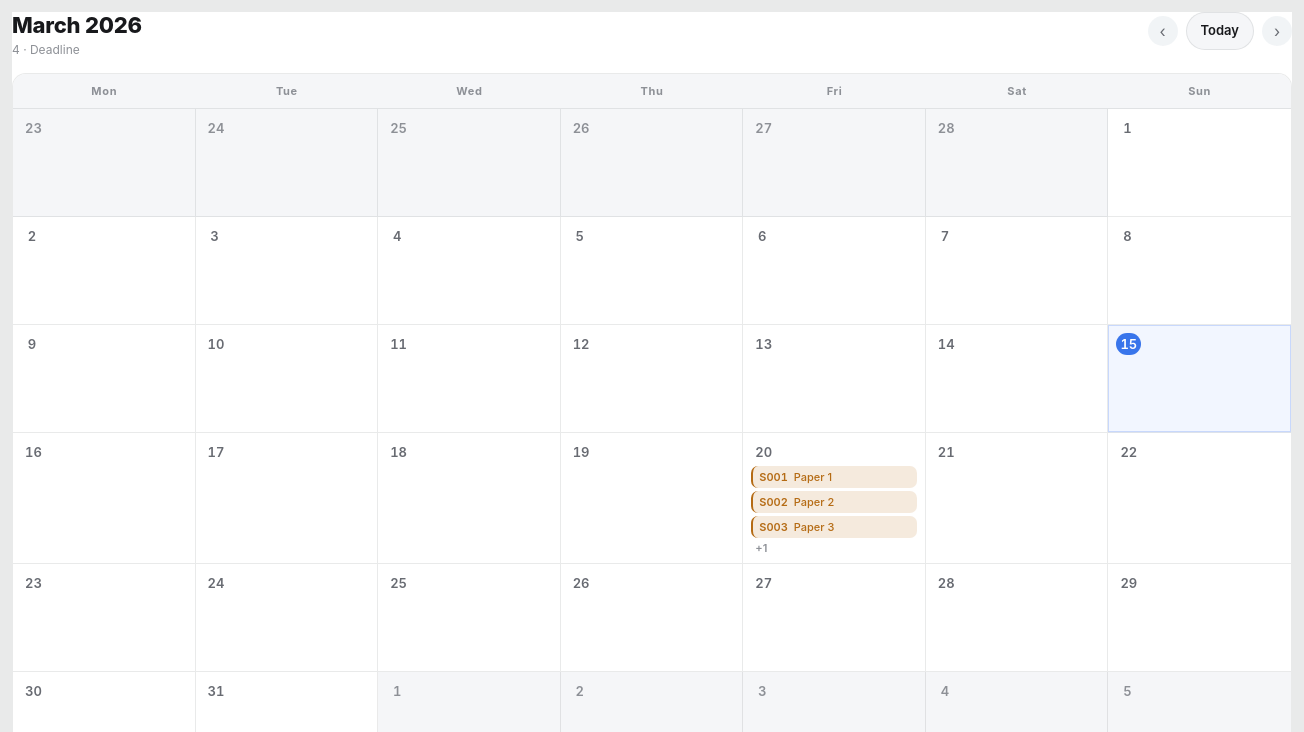
CalendarPage › caps a busy day at three chips and expands on demand
The image size is (1304, 732).
expect the number of buttons with class "wb-cal-event" is 3: met, box [751,466,917,488]; [751,491,917,513]; [751,516,917,538]
Step 1. Click the button "+1" → [761, 548], box [751,541,771,555]
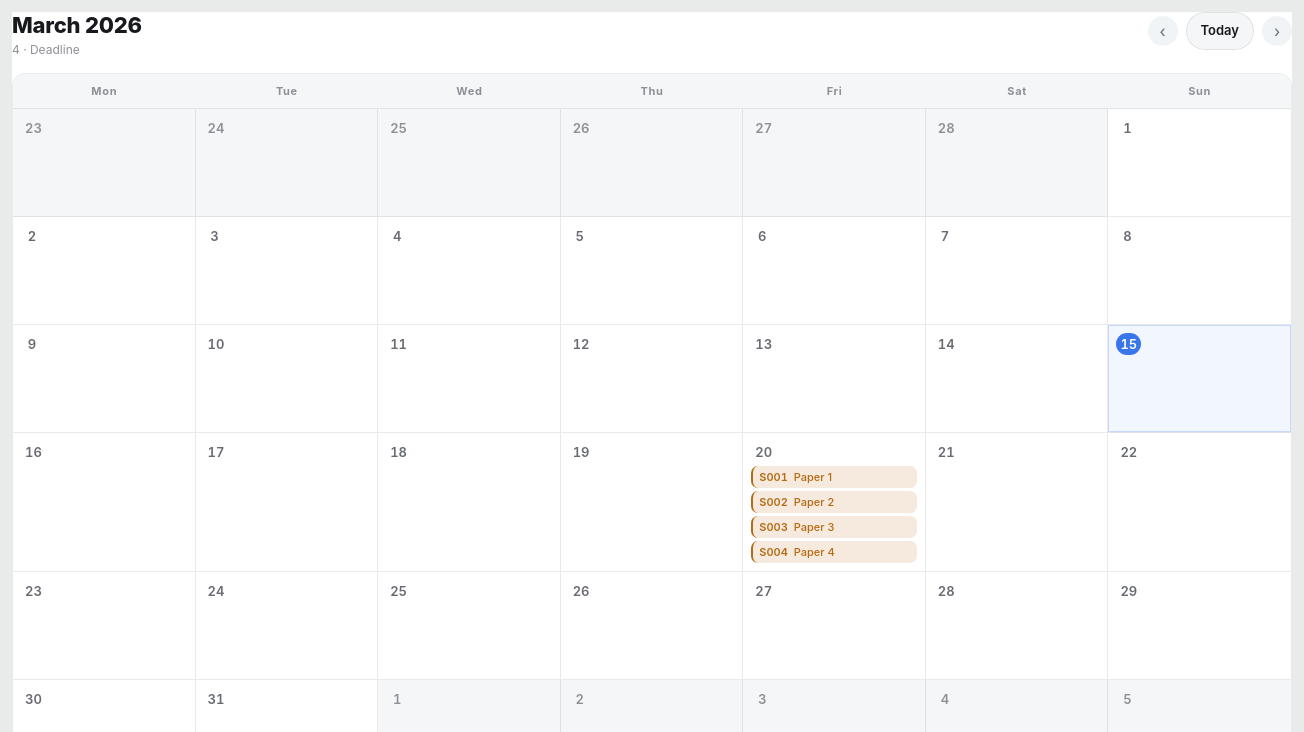
expect the number of buttons with class "wb-cal-event" is 4: met, box [751,466,917,488]; [751,491,917,513]; [751,516,917,538]; [751,541,917,563]
